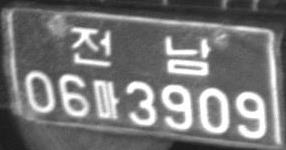0: (197, 85, 231, 136), (23, 69, 57, 115)
3: (124, 78, 158, 127)
6: (58, 72, 92, 120)
9: (233, 89, 268, 141), (159, 82, 194, 133)
마: (92, 78, 121, 122)
전남_D: (69, 22, 212, 78)
